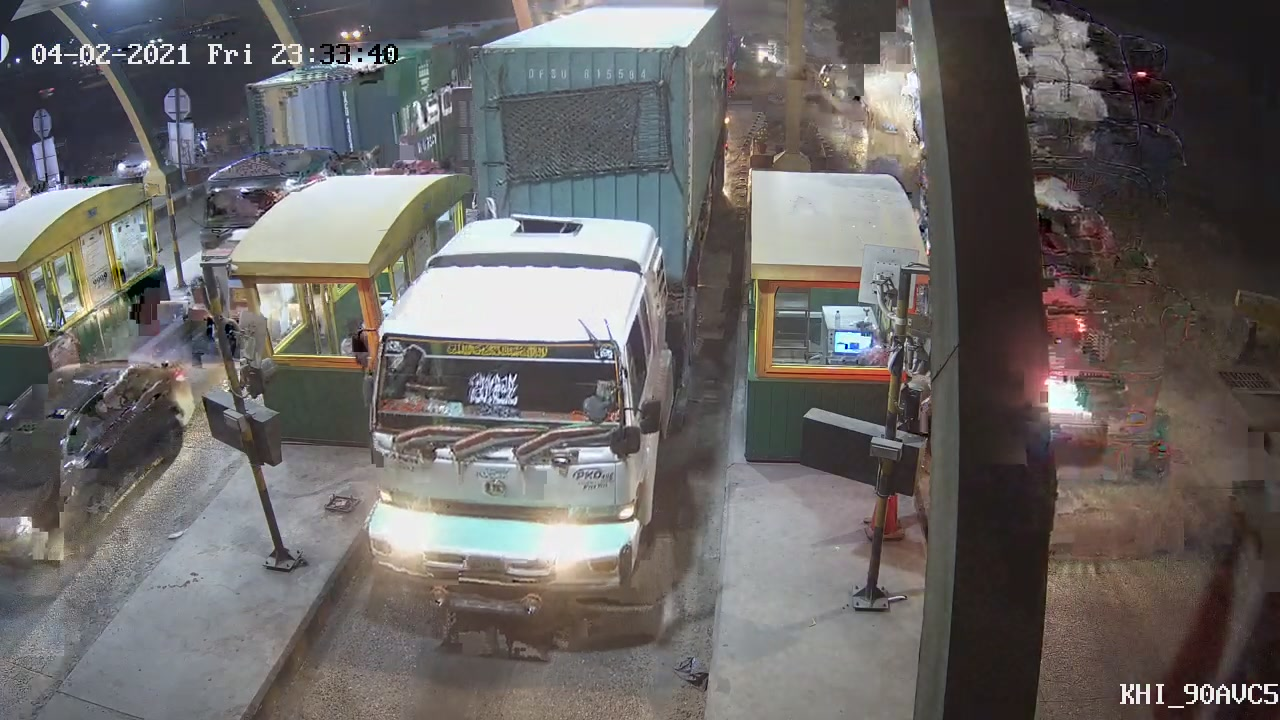F6: (350, 1, 734, 637)
